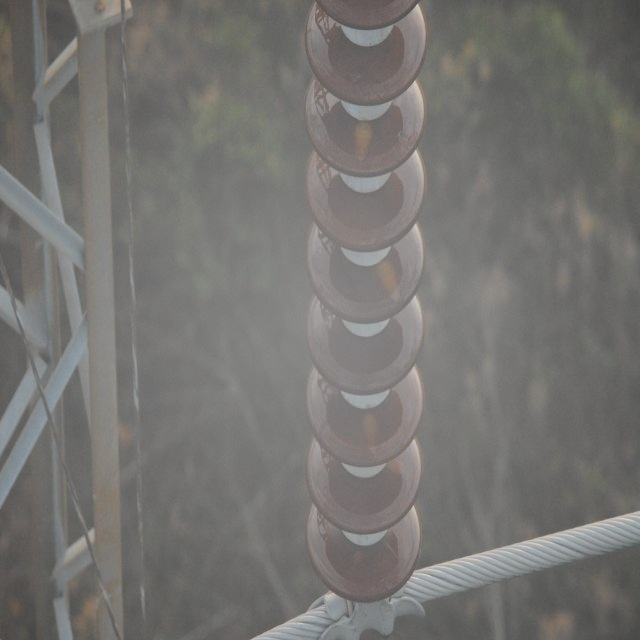insulator: (302, 0, 428, 598)
